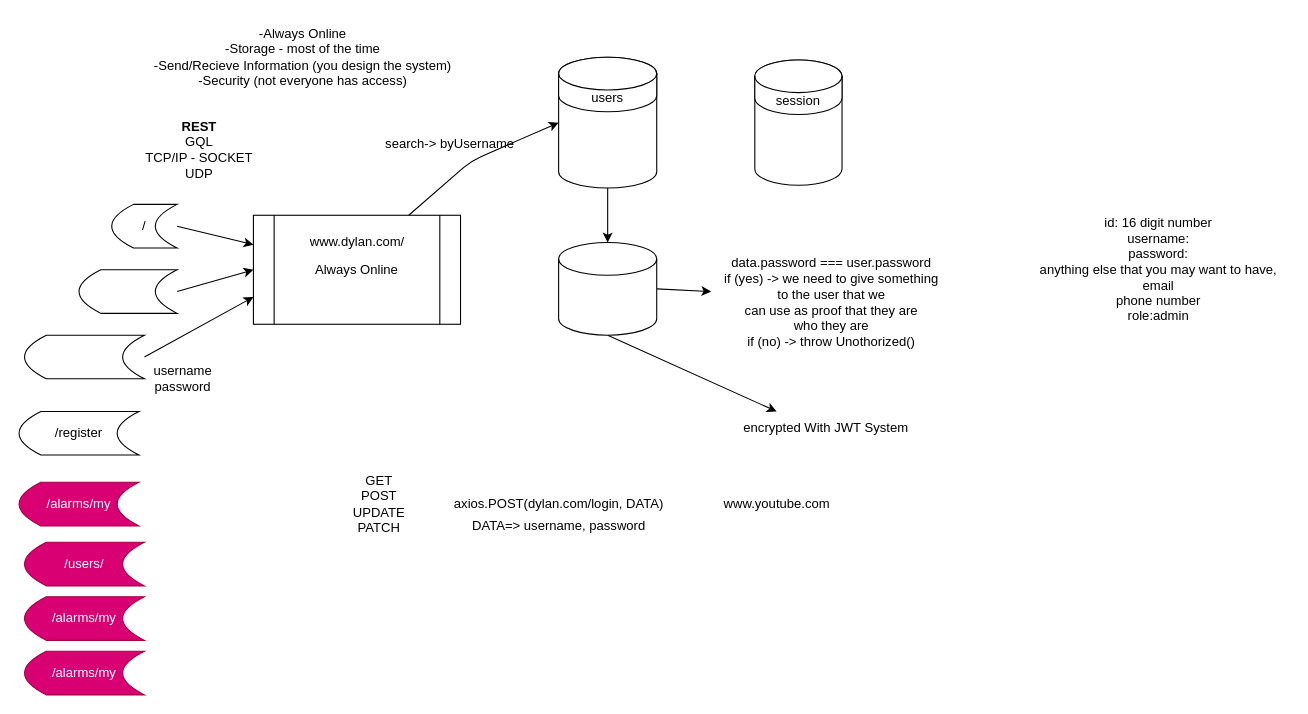
Some shapes in this 1308 by 714 pixel diagram are drawn without their labels. The box of each missing label's shape, as (x1, y1, x2, y2) in pixels:
/alarms: (78, 269, 177, 313)
/login: (23, 334, 144, 379)
user with right username: (558, 241, 657, 335)
